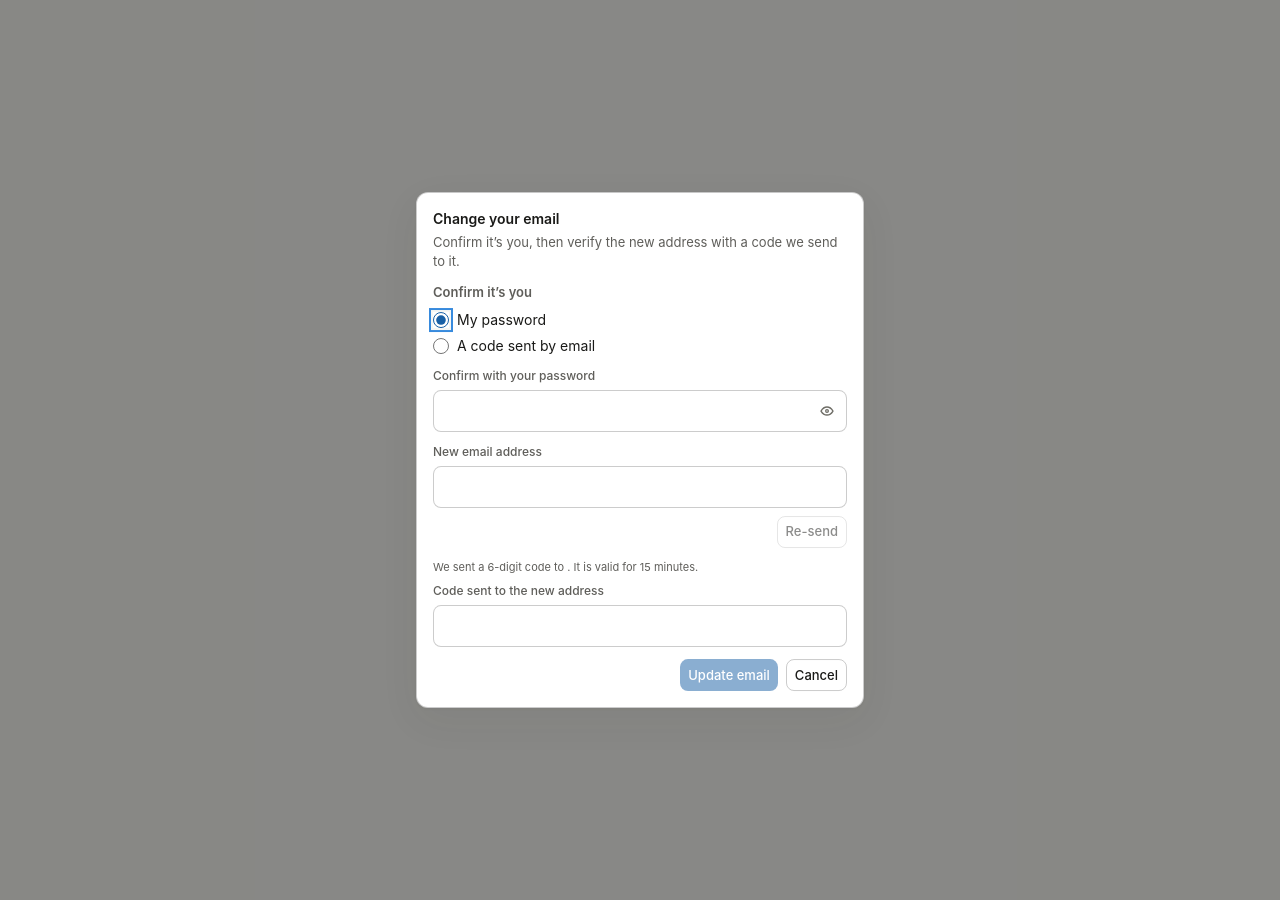
Test: ChangeEmailDialog › enables Update only with the address verified-by-send, six digits and the proof
Type "password123" into the password field labelled "Confirm with your password" at [640, 411], box [433,390,847,432]
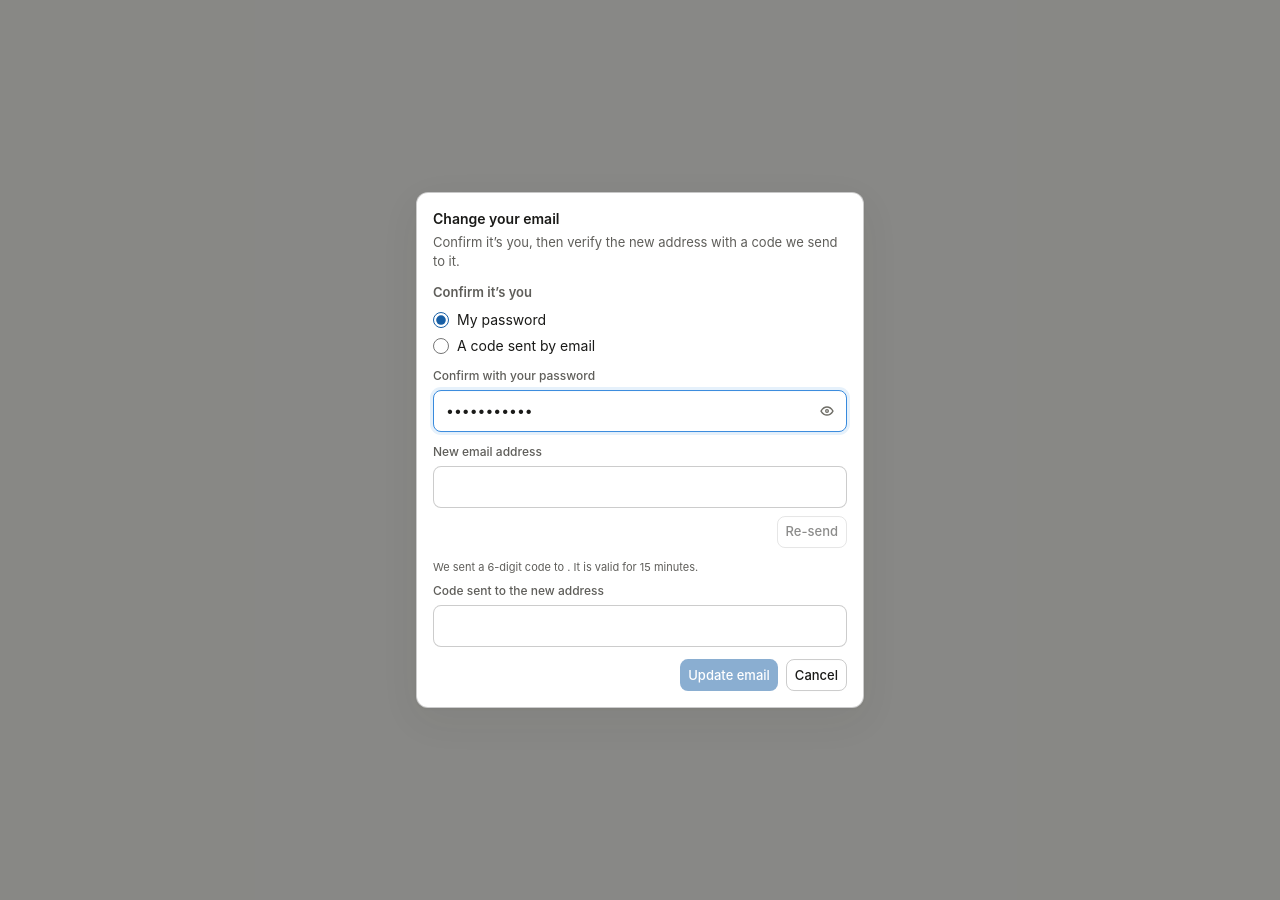
Type "new@example.com" into the field labelled "New email address" at [640, 487], box [433,466,847,508]
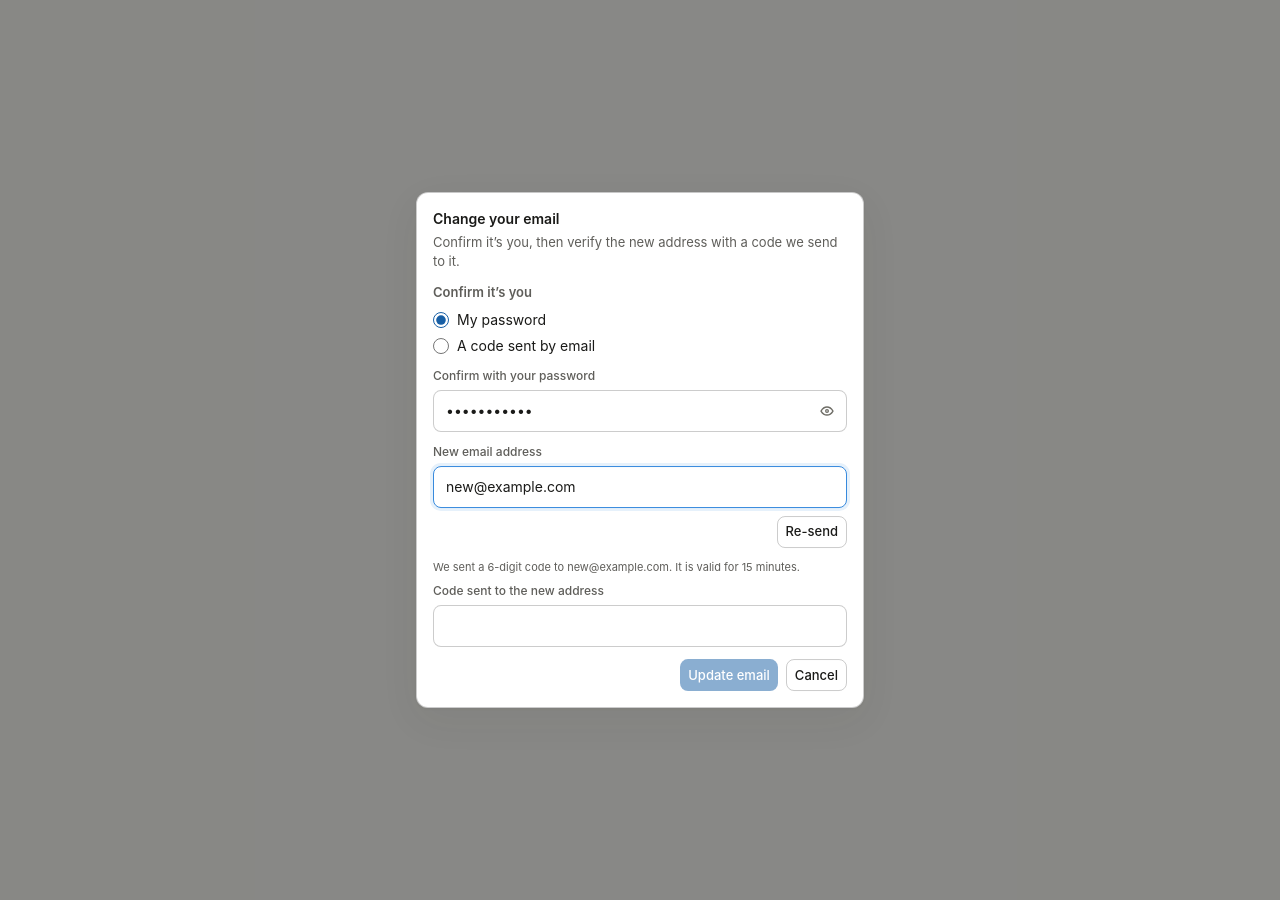
Check: the button "Update email" is disabled, box [680,659,778,691]
Type "65432" into the field labelled "Code sent to the new address" at [640, 626], box [433,605,847,647]
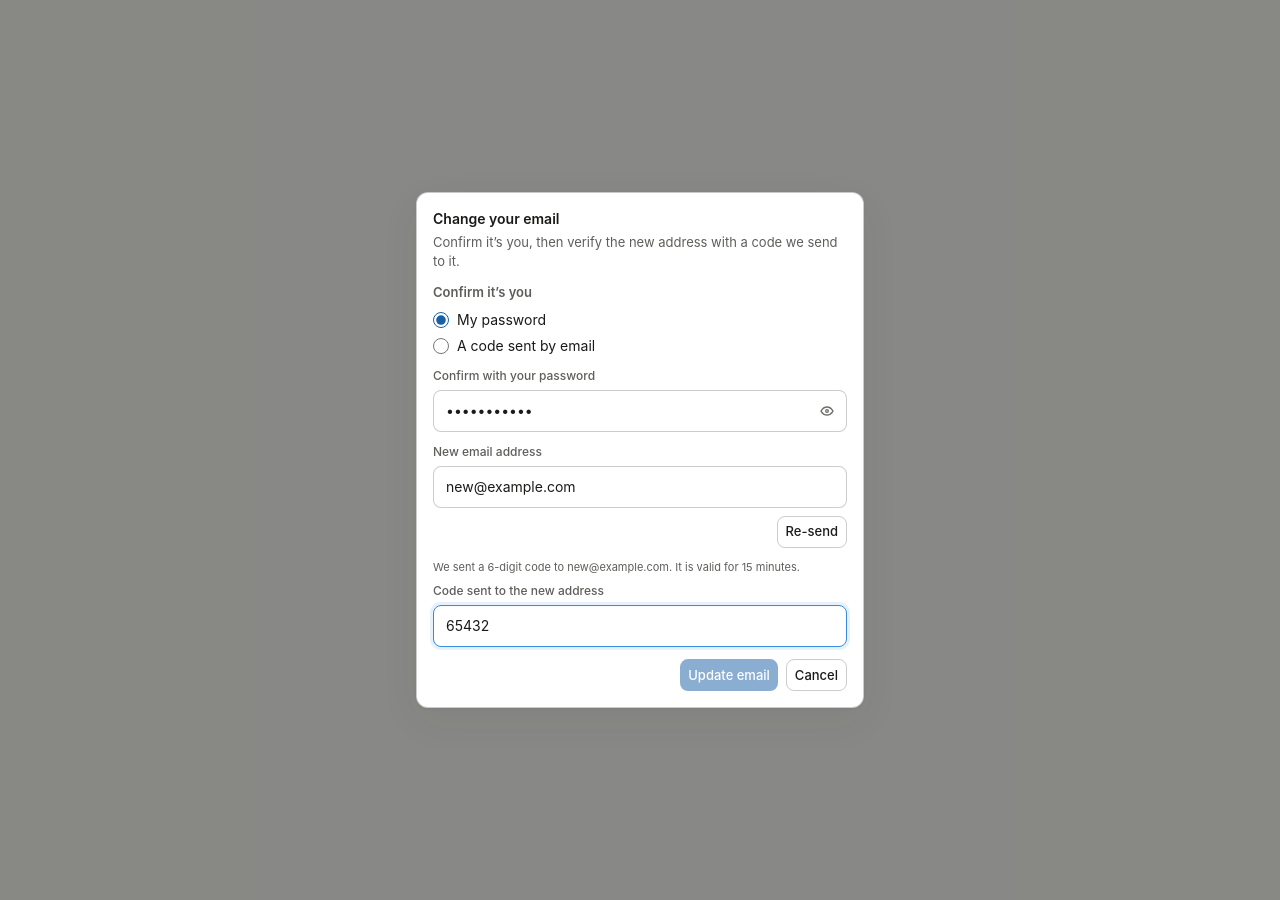
Check: the button "Update email" is disabled, box [680,659,778,691]
Type "1" into the field labelled "Code sent to the new address" at [640, 626], box [433,605,847,647]
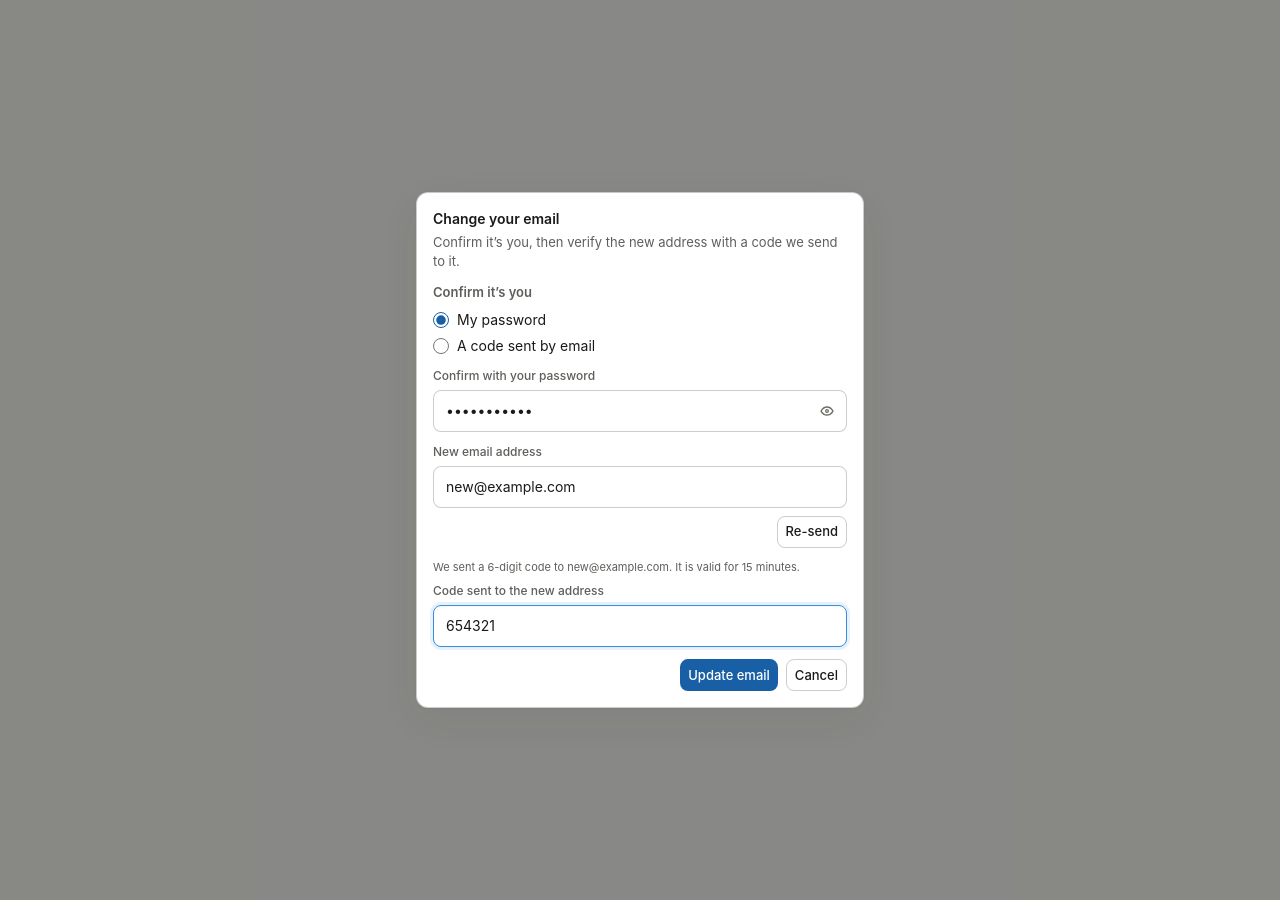
Check: the button "Update email" is enabled, box [680,659,778,691]
